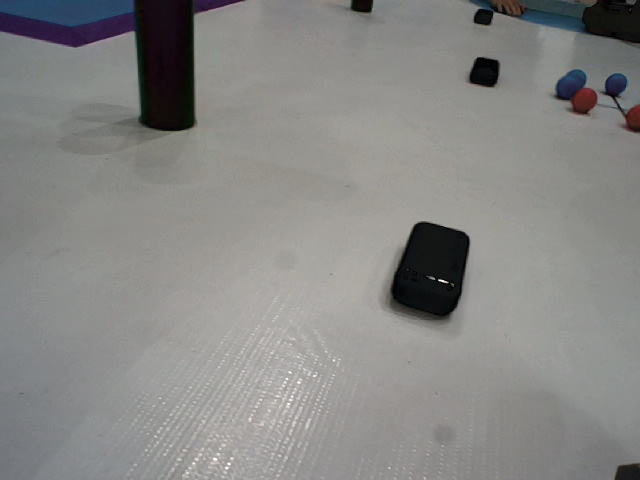black: (390, 220, 470, 314), (467, 55, 506, 90), (473, 6, 495, 23)
blue: (607, 71, 633, 94), (557, 73, 579, 97), (566, 65, 588, 87)
red: (573, 87, 596, 113), (624, 103, 640, 131)
zhuzi: (131, 1, 197, 134)
